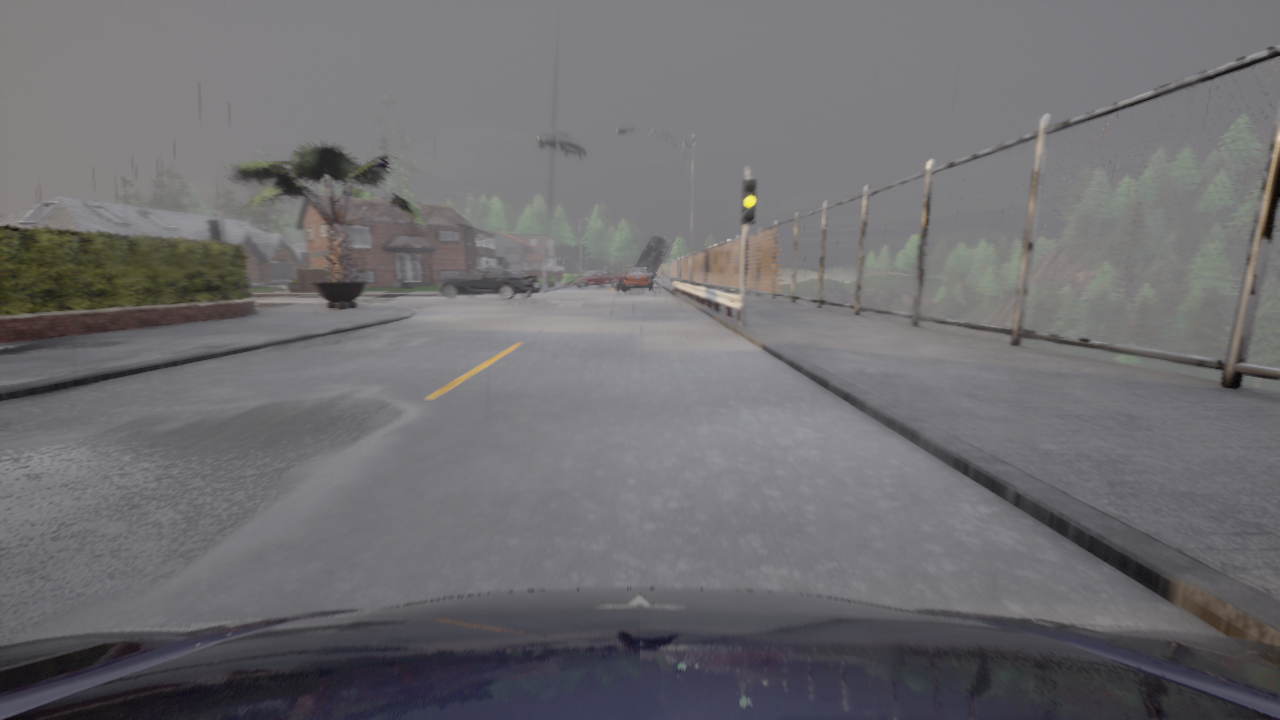cyclist: (0, 588, 1279, 719), (440, 266, 541, 299), (634, 233, 669, 278), (537, 128, 586, 159), (573, 267, 621, 289), (622, 266, 652, 290), (538, 269, 539, 270)
pedestrian: (496, 262, 501, 266)
